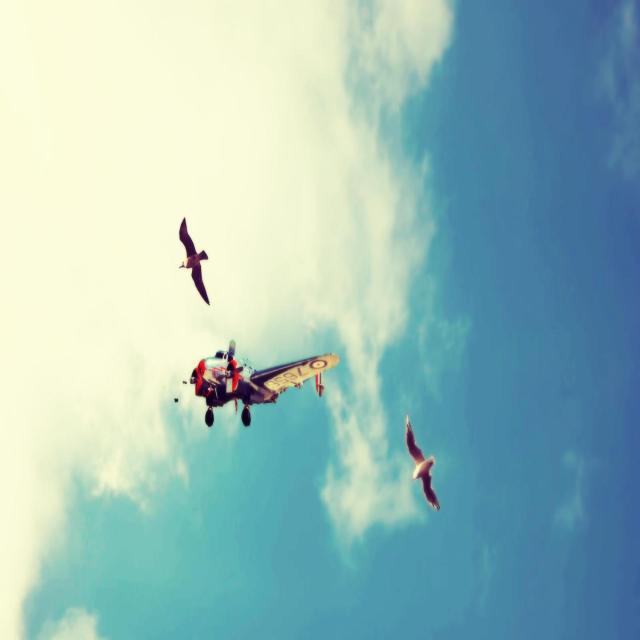airplane: (178, 338, 340, 428)
